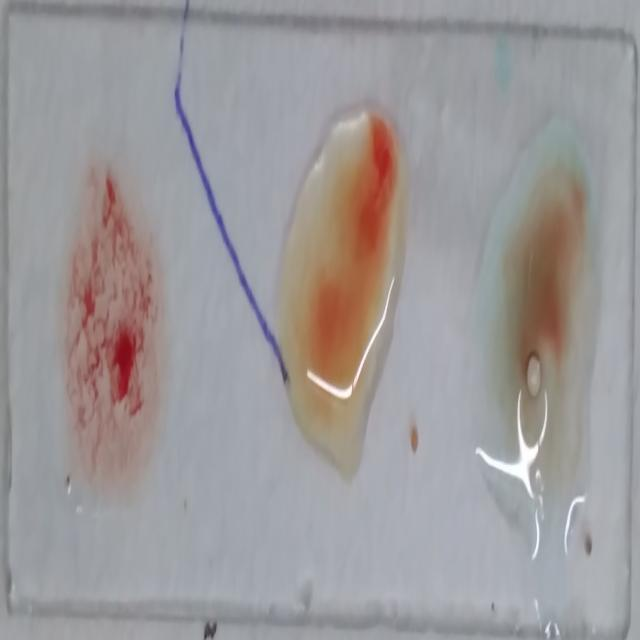D: (56, 160, 159, 471)
